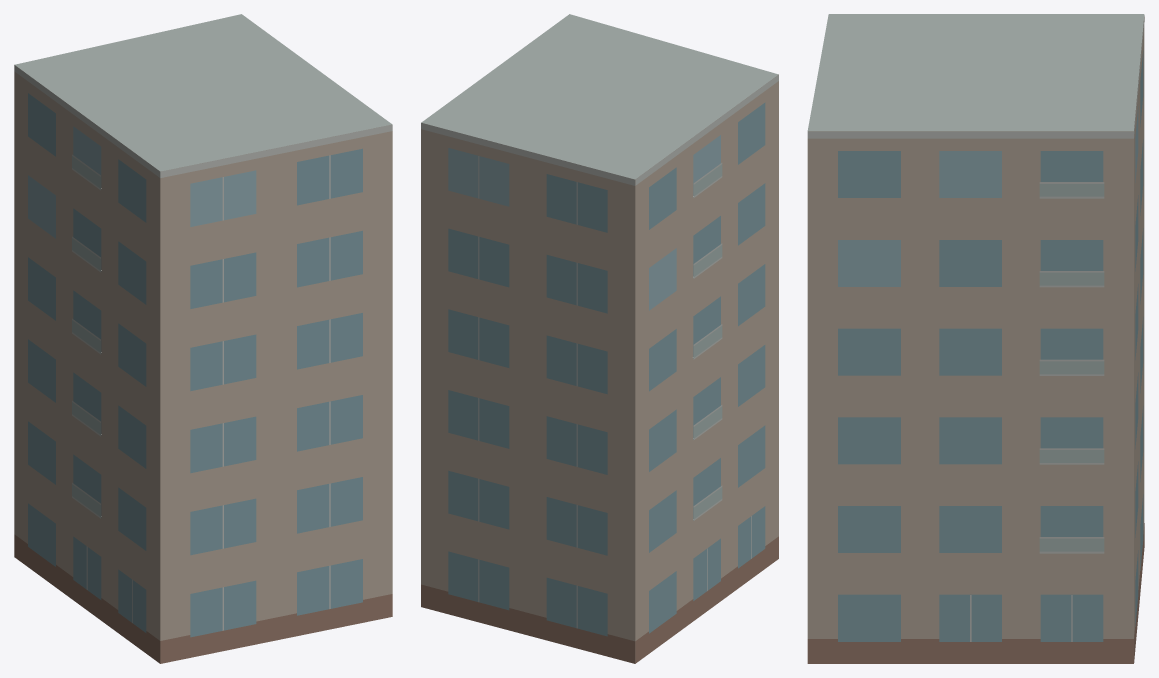
File: survey-upis-32834480.glb
3 renders of one model, left to right at view 1: azimuth 30°, elevation 25°; view 2: azimuth 150°, elevation 25°; view 3: azimuth 270°, elevation 25°, orthographic. The views are drawn at different scales.
Visible parts, largest first — view 1: survey-upis-32834480.tmp; view 2: survey-upis-32834480.tmp; view 3: survey-upis-32834480.tmp.
Boxes of the visible parts, box(x1,y1,x2,y2) form: survey-upis-32834480.tmp: box(14, 14, 392, 663); survey-upis-32834480.tmp: box(421, 14, 778, 663); survey-upis-32834480.tmp: box(807, 14, 1144, 663).
Bounding box in the file's own units: 8.71 × 18.25 × 10.48.
